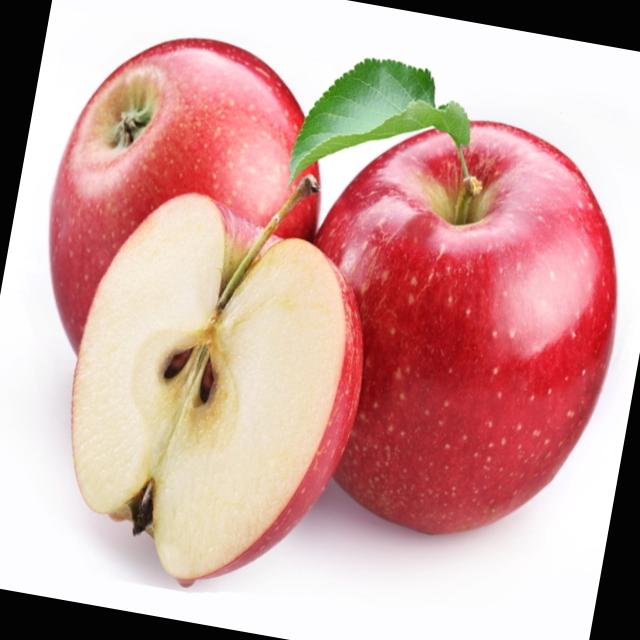apple: (251, 86, 640, 595), (16, 16, 362, 458)
